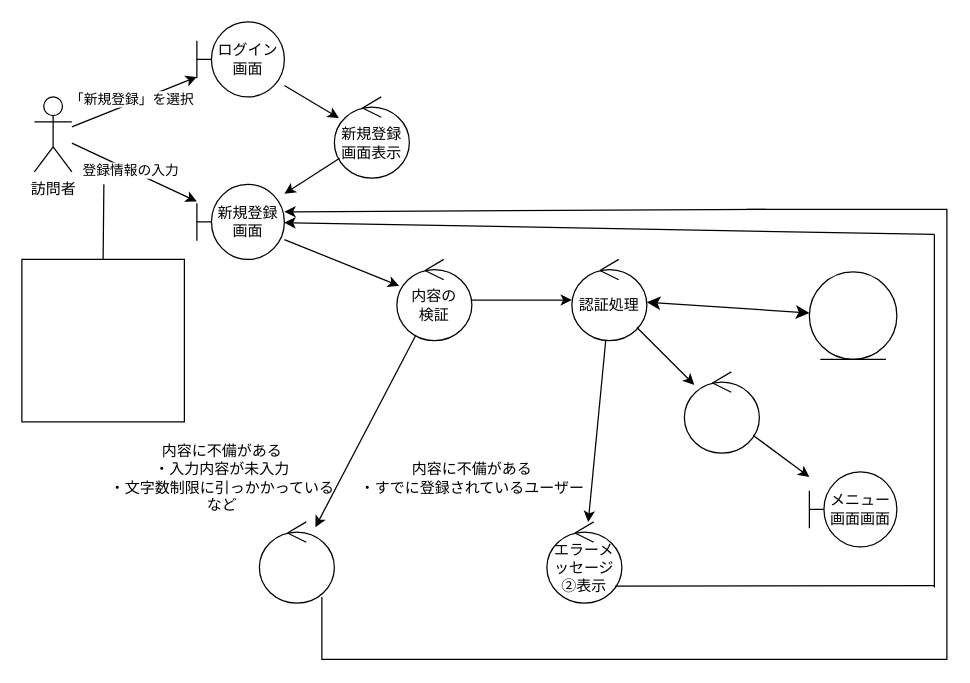
Some shapes in this 970 by 683 pixel diagram are drawn without their labels. Each missing label, with the box of its shape:
エラーメッセージ①表示: (258, 521, 334, 603)
メニュー画面表示: (683, 371, 759, 453)
登録情報 名前 学校名 所属名 メールアドレス 電話番号 年齢: (21, 258, 184, 422)
訪問者システム: (808, 271, 897, 359)
